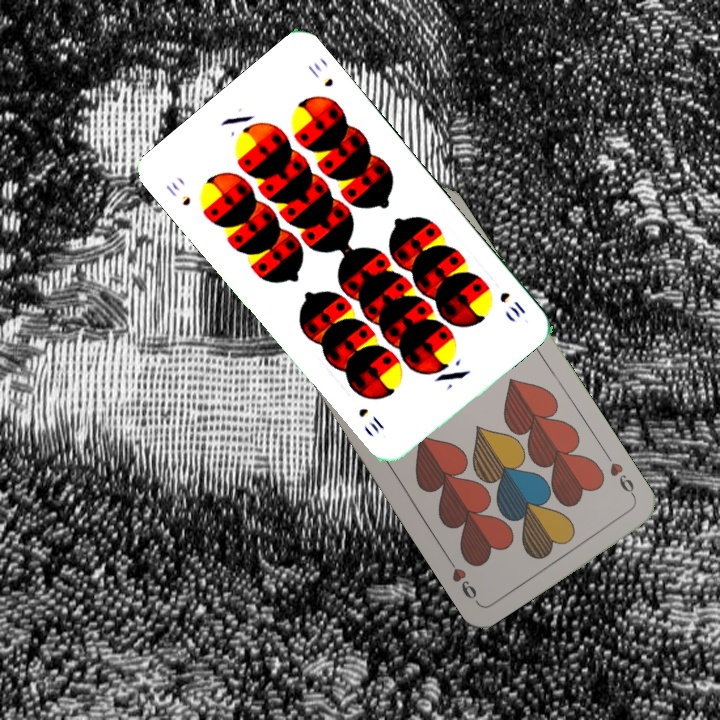H9: (601, 449, 639, 502)
S10: (496, 288, 528, 321), (161, 177, 194, 208)
